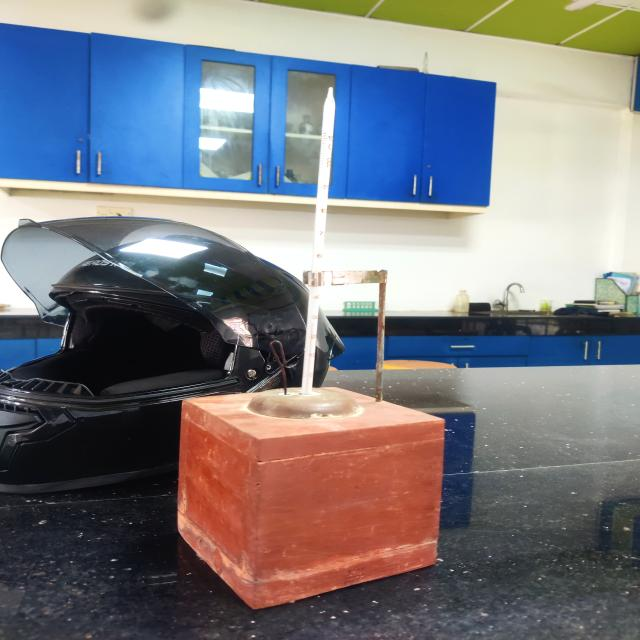Calorimeter: (160, 56, 478, 638)
